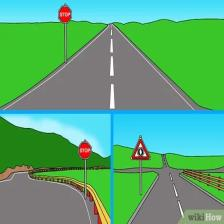Stop-sign: (76, 136, 94, 162), (57, 3, 74, 26)
